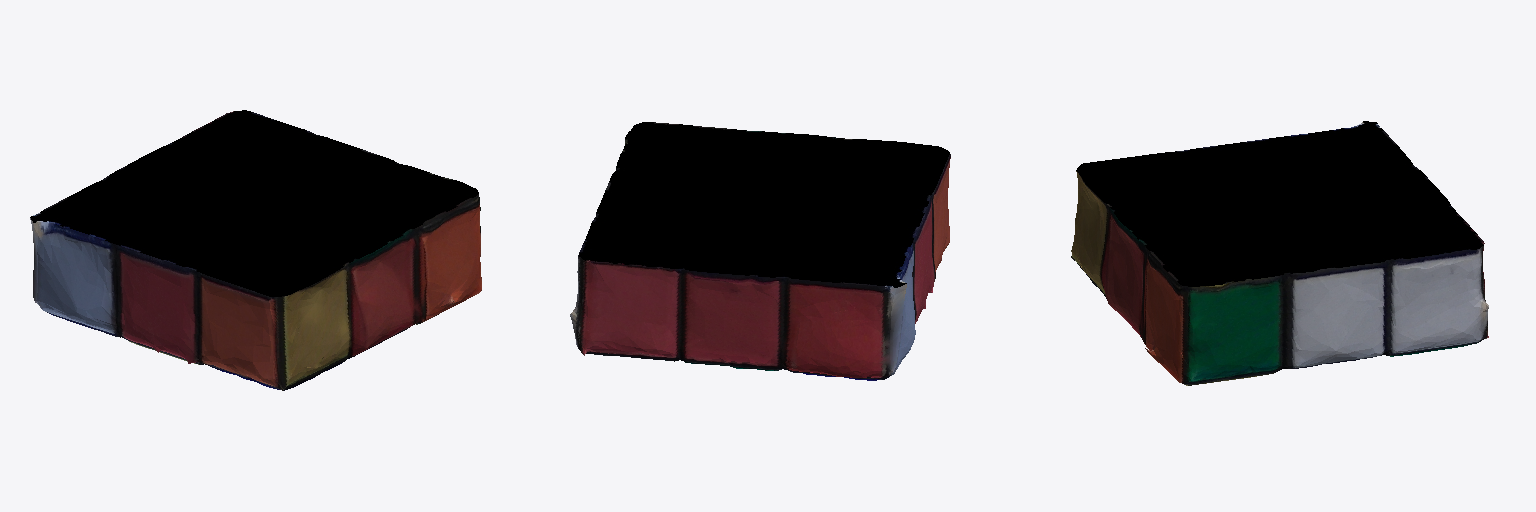
The picture shows the model from 3 angles: view 1: azimuth 30°, elevation 25°; view 2: azimuth 150°, elevation 25°; view 3: azimuth 270°, elevation 25°; orthographic projection.
Bounding box in the file's own units: 0.11 × 0.0323 × 0.11.
Materials: 1 (1 with a texture image).